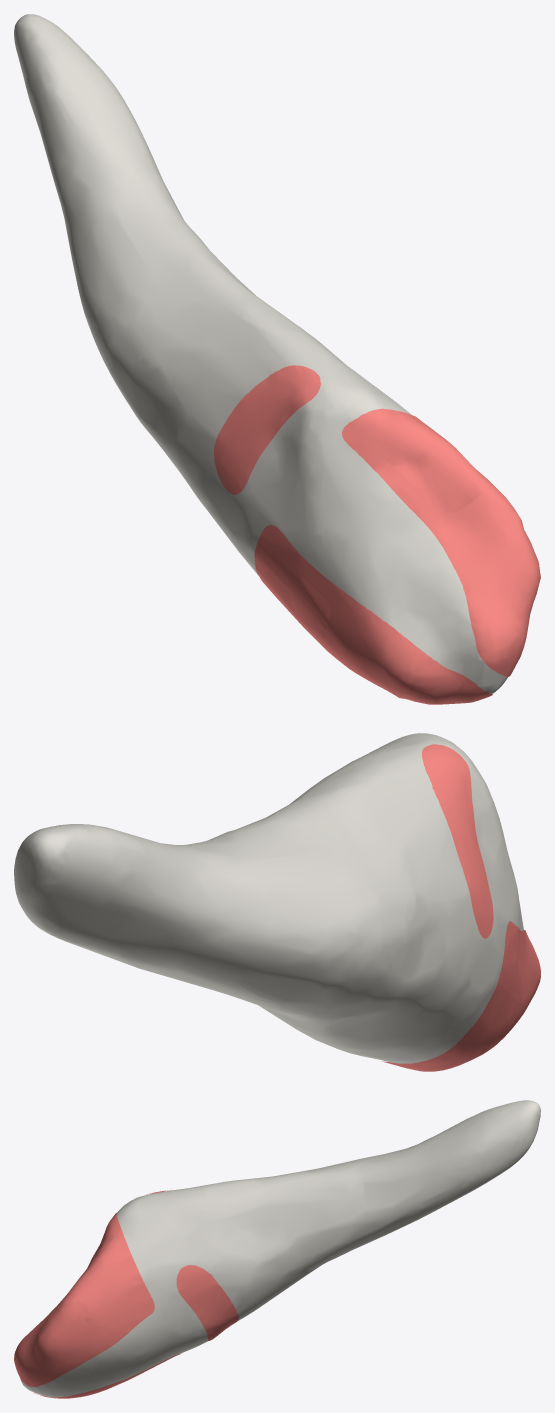
File: tooth_33_FMA55687.glb
3 views of the same model, one above another, from view 1: azimuth 30°, elevation 25°; view 2: azimuth 150°, elevation 25°; view 3: azimuth 270°, elevation 25° (orthographic). The views are drawn at different scales.
Parts seen in each view (by area): view 1: tooth_33, class4_distal, class4_mesial, class5_lingual, class3_distal, class3_mesial; view 2: tooth_33, class5_lingual, class4_mesial, class3_mesial; view 3: tooth_33, class4_distal, class3_distal, class5_facial, class4_mesial.
Part boxes in pixels (left/top/right/bottom): tooth_33: left=14, top=14, right=507, bottom=693; class4_distal: left=342, top=408, right=540, bottom=677; class4_mesial: left=254, top=524, right=492, bottom=704; class5_lingual: left=214, top=365, right=320, bottom=494; class3_distal: left=357, top=415, right=501, bottom=512; class3_mesial: left=259, top=538, right=331, bottom=653; tooth_33: left=14, top=733, right=523, bottom=1063; class5_lingual: left=422, top=744, right=493, bottom=938; class4_mesial: left=382, top=921, right=540, bottom=1071; class3_mesial: left=387, top=939, right=522, bottom=1071; tooth_33: left=20, top=1100, right=540, bottom=1397; class4_distal: left=14, top=1212, right=154, bottom=1386; class3_distal: left=71, top=1217, right=146, bottom=1338; class5_facial: left=176, top=1265, right=238, bottom=1340; class4_mesial: left=34, top=1353, right=181, bottom=1398.
Size of the model in its own units: 8.2 by 14.77 by 25.38.
